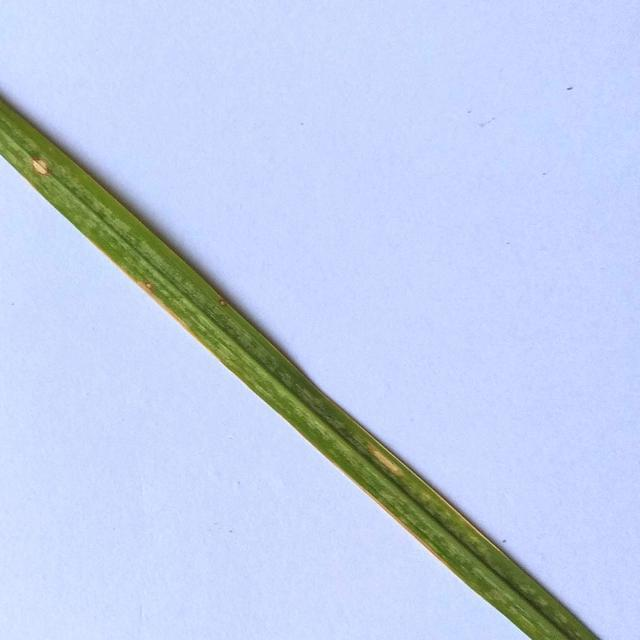Blast: (373, 443, 401, 481), (27, 153, 54, 177), (140, 278, 158, 290), (218, 298, 229, 309)
